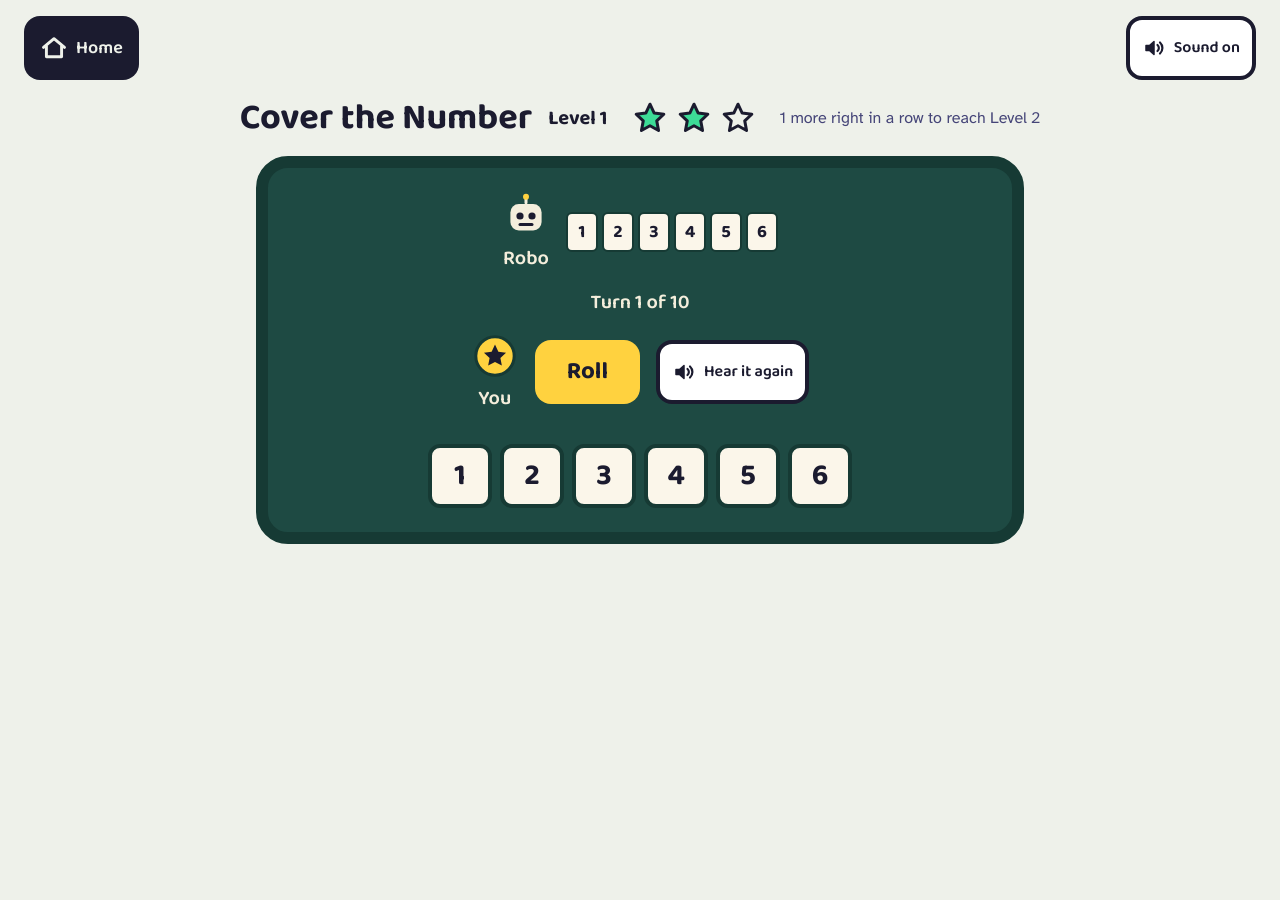
Test case: a right tap covers the number
The image size is (1280, 900).
Click the button "Roll" at (587, 372), box [535,340,640,404]
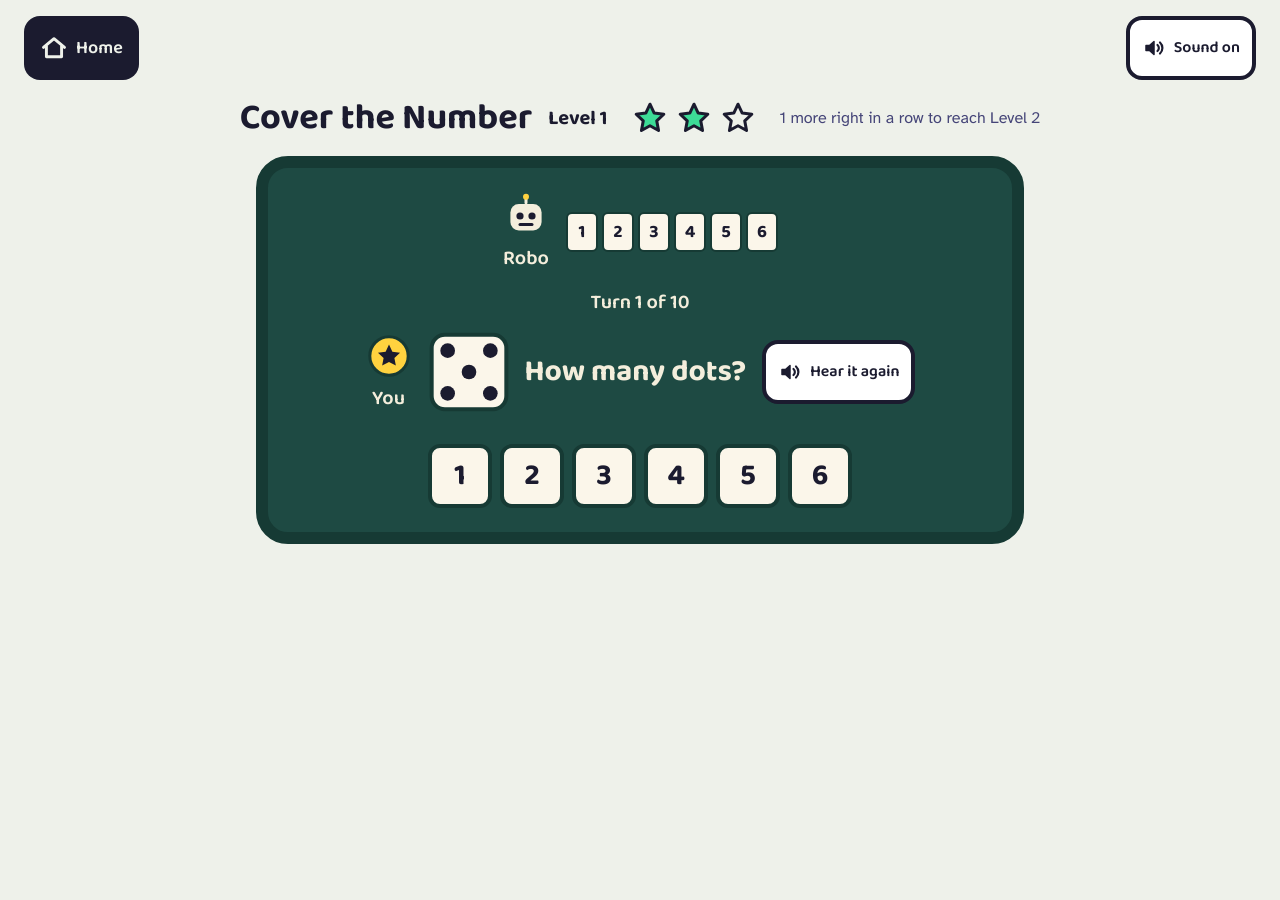
Click the button named "Number 5" at (748, 476), box [716,444,780,508]
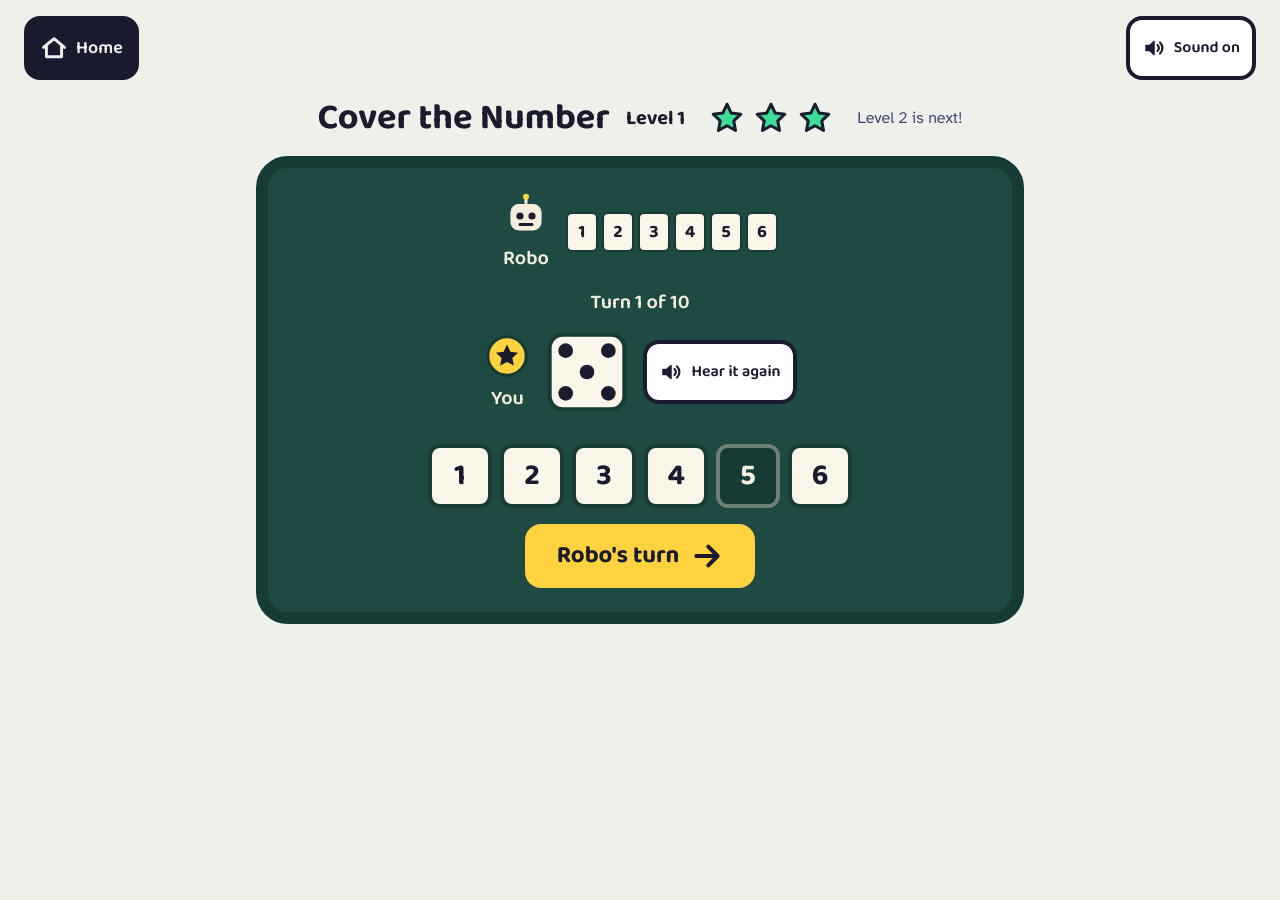
Now the button "Robo's turn" is shown, box [525,524,755,588]
